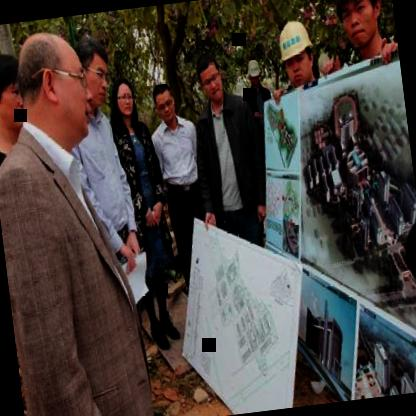head: (16, 22, 94, 142), (72, 30, 115, 113), (331, 0, 390, 56), (0, 48, 31, 135), (194, 53, 228, 108), (149, 78, 179, 126), (110, 74, 138, 124)
helmet: (272, 14, 320, 89), (245, 56, 264, 90)
